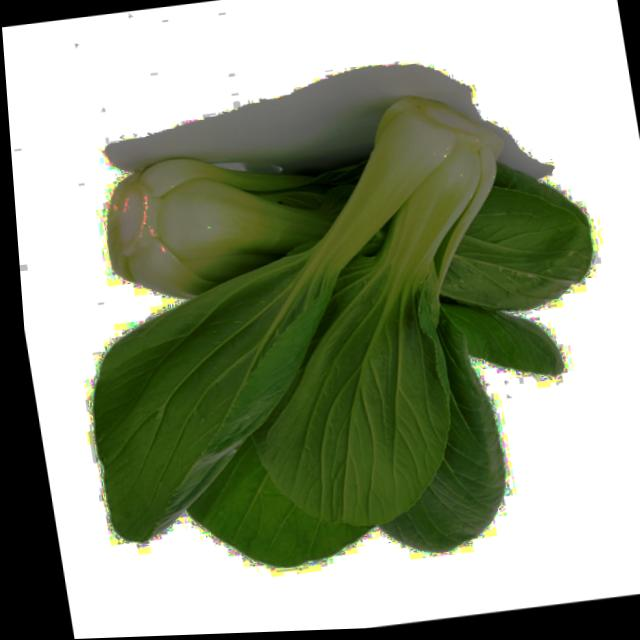chinese_cabbage: (69, 88, 630, 590)
